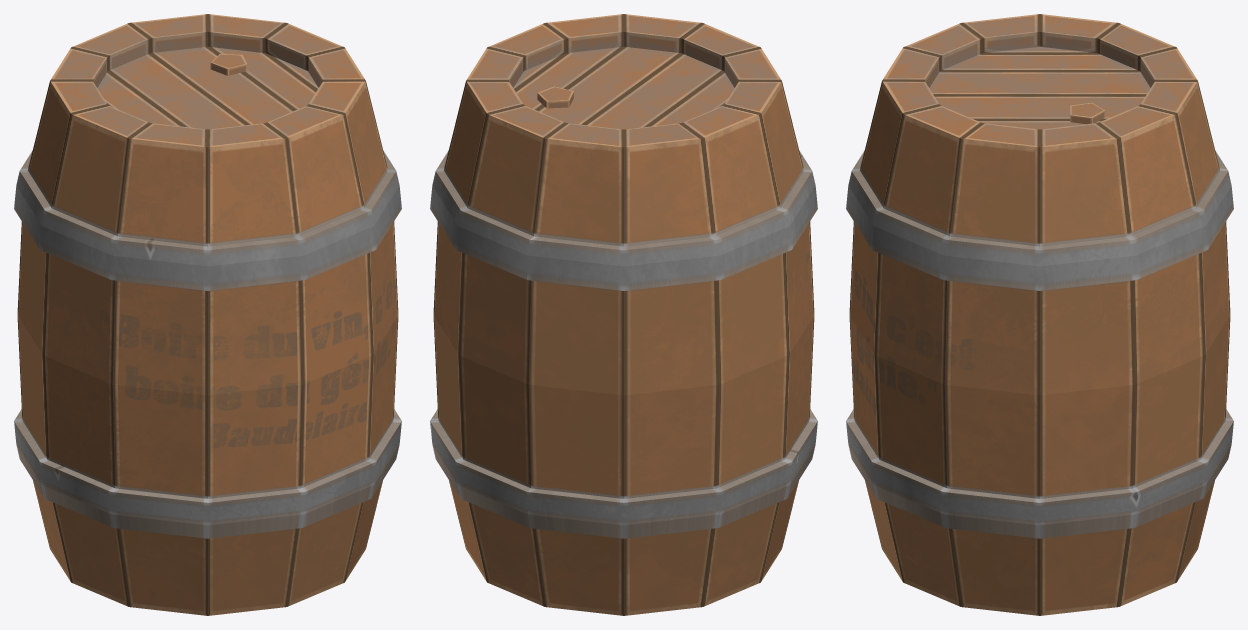
The model's file is Tonneau.fbx.
3 renders of one model, left to right at view 1: azimuth 30°, elevation 25°; view 2: azimuth 150°, elevation 25°; view 3: azimuth 270°, elevation 25°, orthographic.
Visible parts, largest first — view 1: Tonneau; view 2: Tonneau; view 3: Tonneau.
Boxes of the visible parts, x1,y1,x2,y2 form: Tonneau: (14,14,401,615); Tonneau: (430,14,817,615); Tonneau: (846,14,1233,615).
Size of the model in its own units: 67.54 by 90 by 67.54.
Materials: 1 (1 with a texture image).
